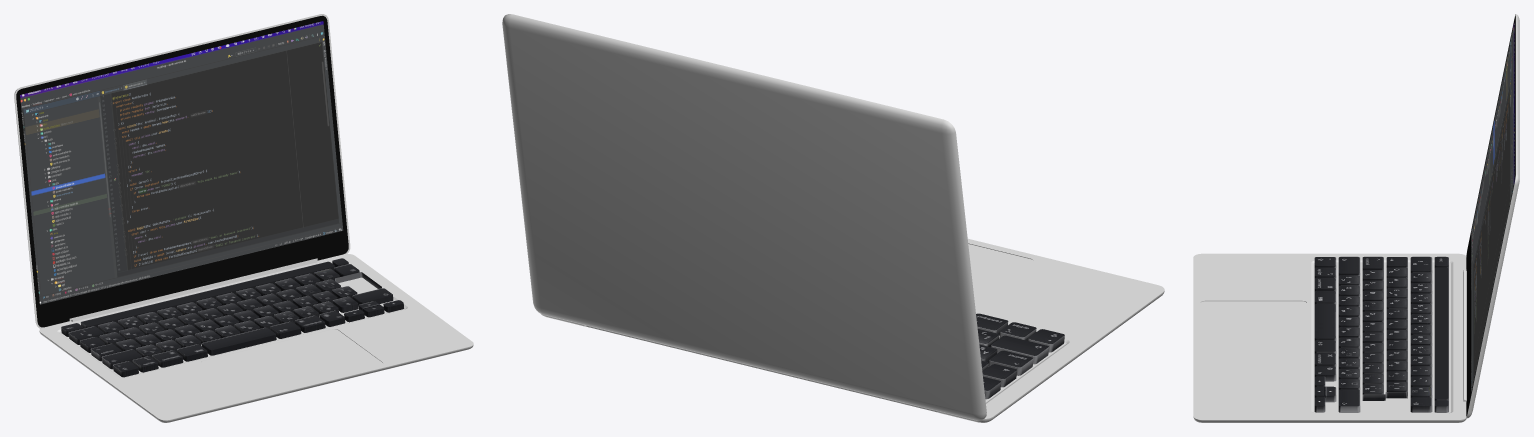
Rendered from macbook.glb.
3 renders of one model, left to right at view 1: azimuth 30°, elevation 25°; view 2: azimuth 150°, elevation 25°; view 3: azimuth 270°, elevation 25°, orthographic. The views are drawn at different scales.
Parts seen in each view (by area): view 1: display, keyb, Plane.004; view 2: display, keyb, Plane.004; view 3: keyb, Plane.004, display.
Boxes of the visible parts, box(x1,y1,x2,y2) form: display: box(14, 14, 350, 328); keyb: box(39, 254, 473, 422); Plane.004: box(61, 258, 404, 377); display: box(502, 14, 986, 420); keyb: box(541, 238, 1164, 422); Plane.004: box(976, 313, 1064, 399); keyb: box(1193, 253, 1466, 422); Plane.004: box(1314, 256, 1448, 412); display: box(1463, 14, 1519, 418).
Size of the model in its own units: 2 by 1.39 by 1.66.
4 materials, 2 textured.
